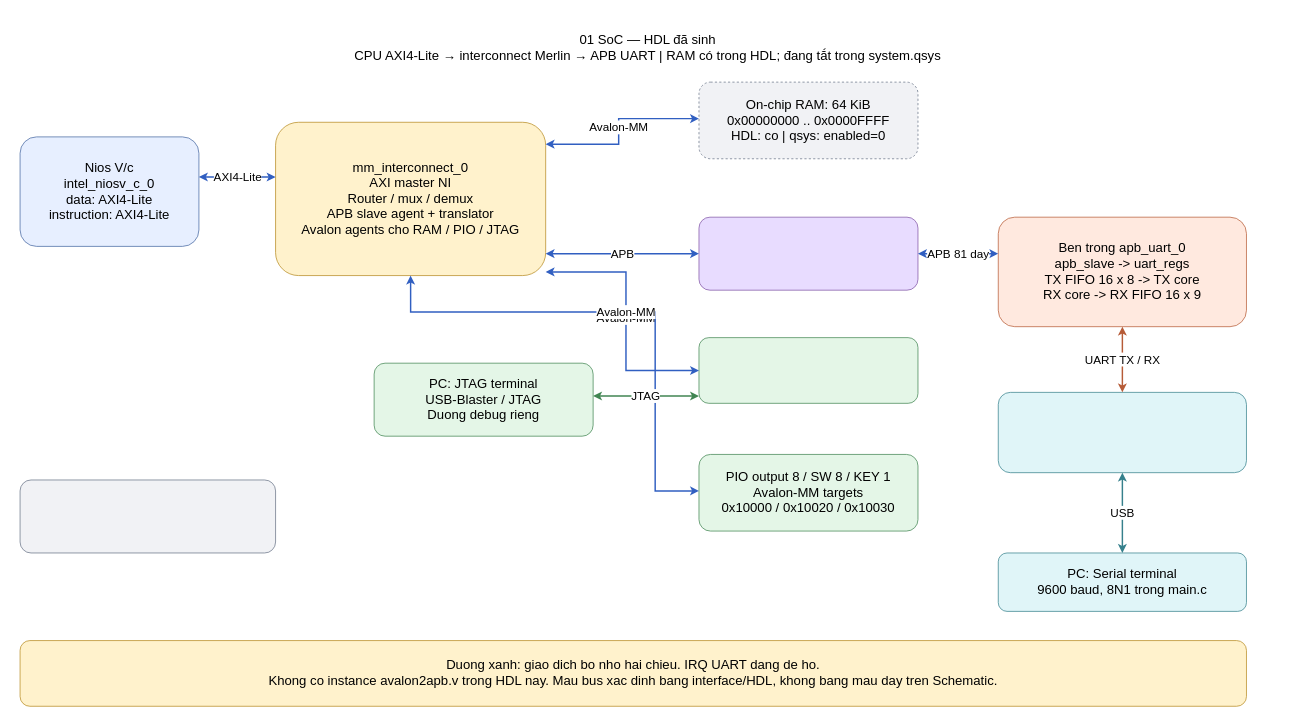
Image size: 1296x719. Some labels were removed from this diagram. Here are the shapes that lost their labels. From the top down, the centre of each, then its label:
At (x=808, y=253): "apb_uart_0.apb_slave APB: addr 12, data 32 0x00020000 .. 0x00020FFF".
At (x=808, y=370): "jtag_uart_0 Avalon-MM target 0x00010010 .. 0x00010017".
At (x=1122, y=432): "USB-UART TTL 3.3 V TX FPGA -> RX adapter TX adapter -> RX FPGA Chung GND".
At (x=147, y=516): "CLOCK_50 = 50 MHz KEY[0] -> reset controller Clock/reset cap song song cho IP".
